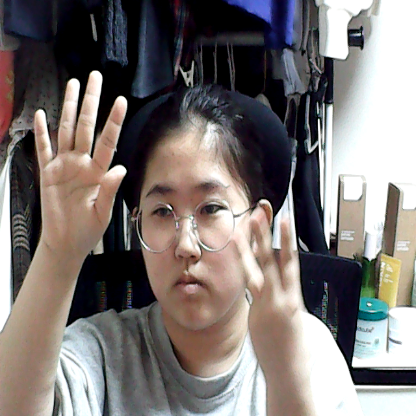Finger_3: (219, 202, 333, 386)
Finger_5: (27, 66, 132, 251)
